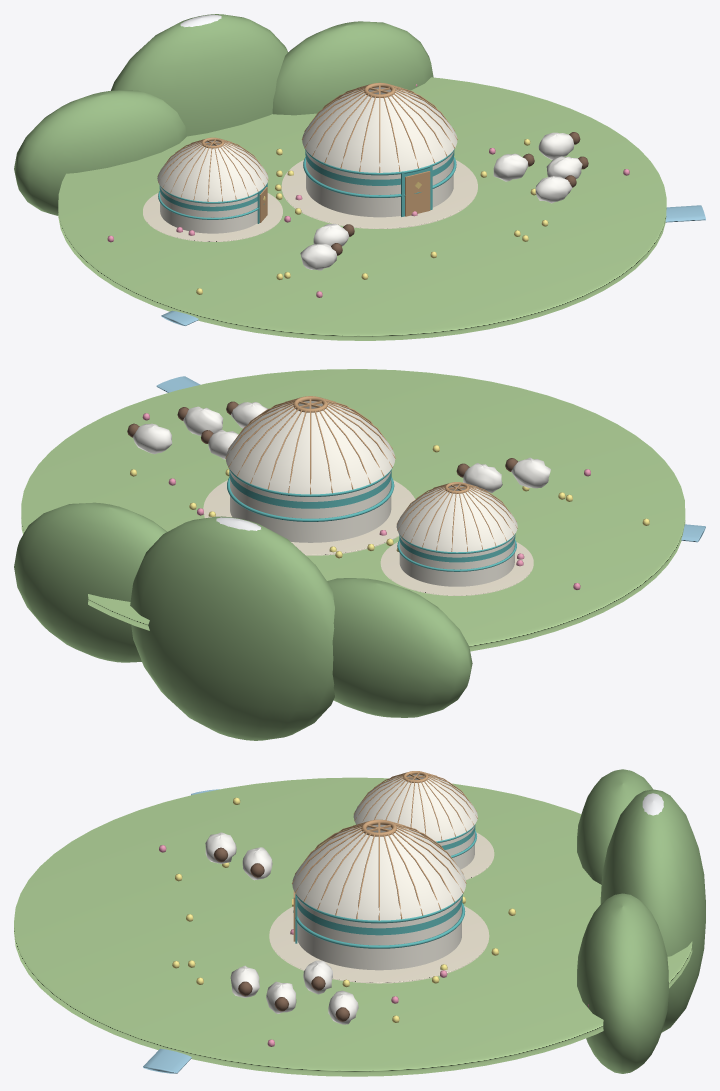
The model's file is zhailau.glb.
The picture shows the model from 3 angles, top to bottom: view 1: azimuth 30°, elevation 25°; view 2: azimuth 150°, elevation 25°; view 3: azimuth 270°, elevation 25°; orthographic projection. The views are drawn at different scales.
Parts seen in each view (by area): view 1: meadow, hill (×3), roof (×2), wall (×2), ground (×2), sheep (×6), door, stream, belt, band; view 2: meadow, hill (×3), roof (×2), wall (×2), ground (×2), sheep (×5), belt (×2), band, stream; view 3: meadow, hill (×3), roof (×2), wall (×2), ground (×2), sheep (×6), band (×2), belt, stream.
Boxes of the visible parts, box(x1,y1,x2,y2) form: meadow: box(58, 77, 666, 340); hill (×3): box(14, 14, 433, 215); roof (×2): box(157, 87, 457, 201); wall (×2): box(160, 151, 453, 233); ground (×2): box(143, 160, 477, 241); sheep (×6): box(300, 132, 582, 270); door: box(405, 171, 430, 216); stream: box(161, 205, 705, 325); belt: box(305, 150, 454, 185); band: box(303, 157, 456, 197); meadow: box(21, 369, 685, 651); hill (×3): box(14, 502, 472, 740); roof (×2): box(226, 401, 517, 552); wall (×2): box(230, 471, 514, 586); ground (×2): box(203, 480, 533, 595); sheep (×5): box(133, 402, 550, 492); belt (×2): box(229, 470, 515, 562); band: box(227, 477, 394, 521); stream: box(156, 376, 705, 542); meadow: box(14, 777, 692, 1076); hill (×3): box(577, 769, 705, 1073); roof (×2): box(292, 774, 477, 920); wall (×2): box(297, 826, 474, 970); ground (×2): box(269, 832, 494, 983); sheep (×6): box(205, 832, 358, 1024); band (×2): box(293, 894, 465, 948); belt: box(297, 895, 462, 935); stream: box(143, 789, 219, 1073).
Bounding box in the file's own units: 5.6 × 2.05 × 5.68.
